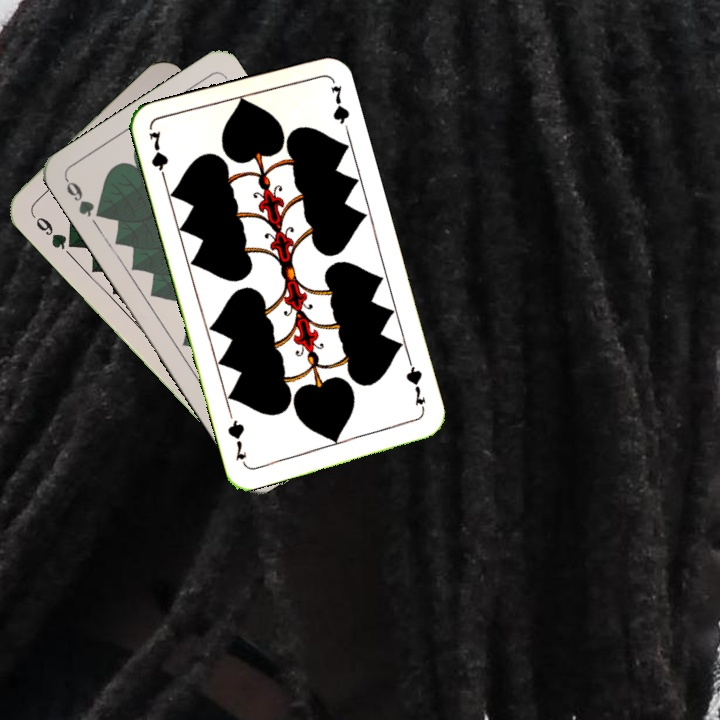G7: (402, 357, 429, 415), (145, 127, 171, 186)
G9: (27, 209, 78, 252), (61, 175, 108, 221)
